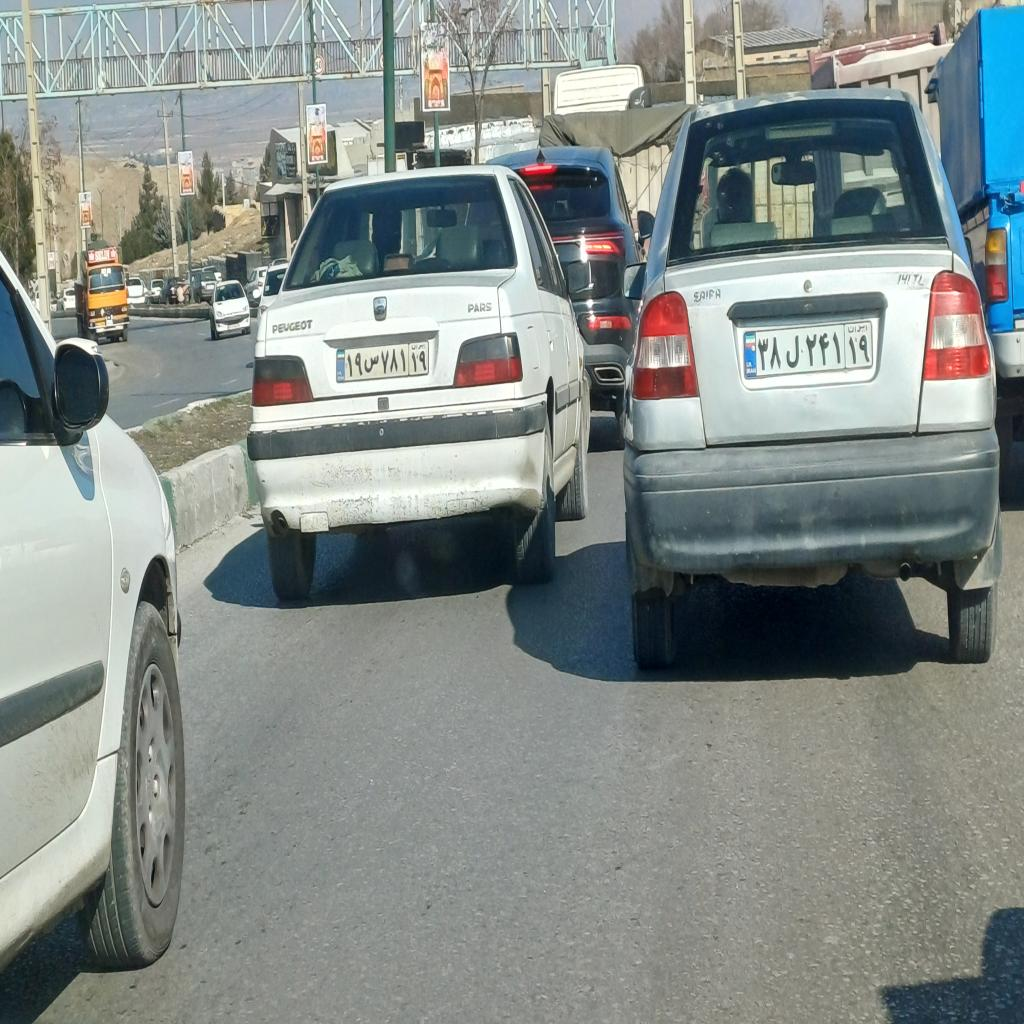Plates: (742, 322, 874, 380), (335, 339, 431, 381)
